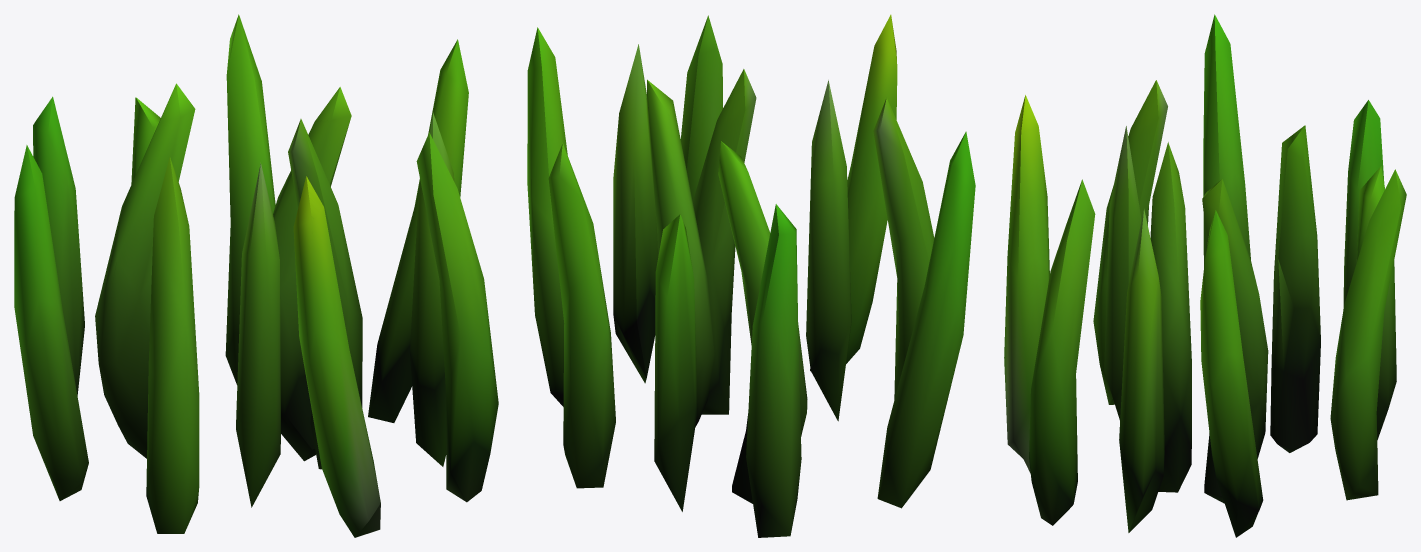
Rendered from low_poly_grass.glb.
3 renders of one model, left to right at view 1: azimuth 30°, elevation 25°; view 2: azimuth 150°, elevation 25°; view 3: azimuth 270°, elevation 25°, orthographic. The views are drawn at different scales.
Visible parts, largest first — view 1: Object_3; view 2: Object_3; view 3: Object_3.
Boxes of the visible parts, bbox=[...] form: Object_3: bbox=[14, 14, 498, 537]; Object_3: bbox=[527, 14, 975, 537]; Object_3: bbox=[1004, 14, 1406, 537].
Size of the model in its own units: 1291 by 1078 by 1083.
1 material, 1 textured.
